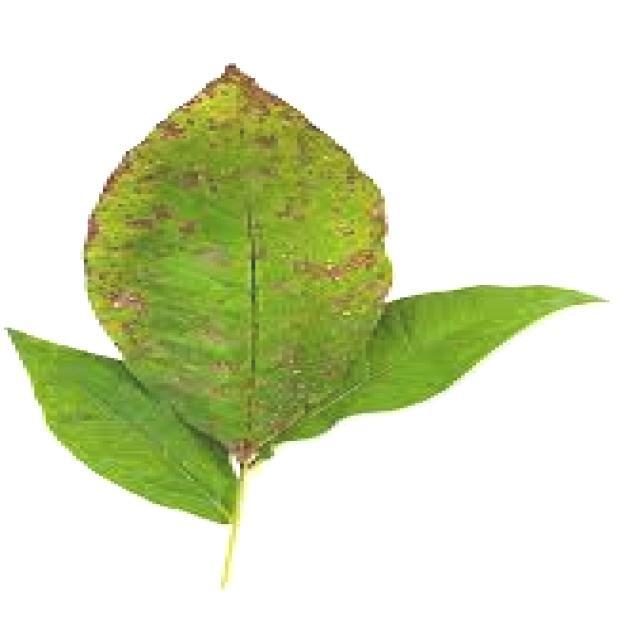leaf: (4, 61, 609, 586)
